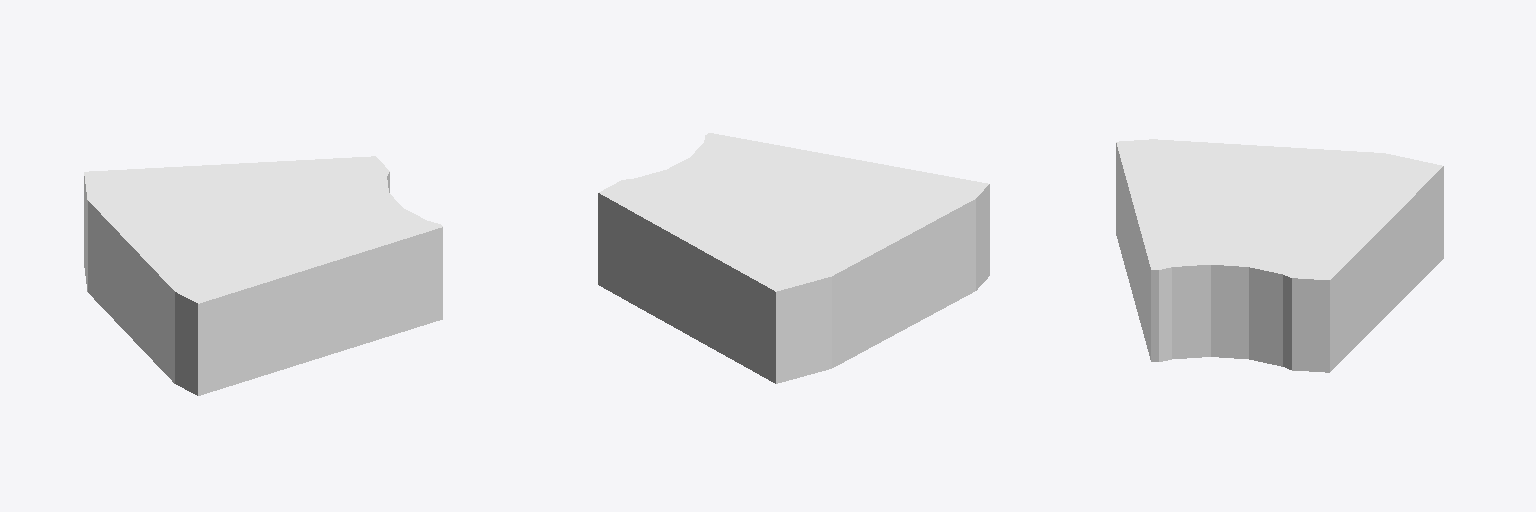
File: HalfDisc.obj
The picture shows the model from 3 angles: view 1: azimuth 30°, elevation 25°; view 2: azimuth 150°, elevation 25°; view 3: azimuth 270°, elevation 25°; orthographic projection.
Bounding box in the file's own units: 0.6243 × 0.1904 × 0.6127.